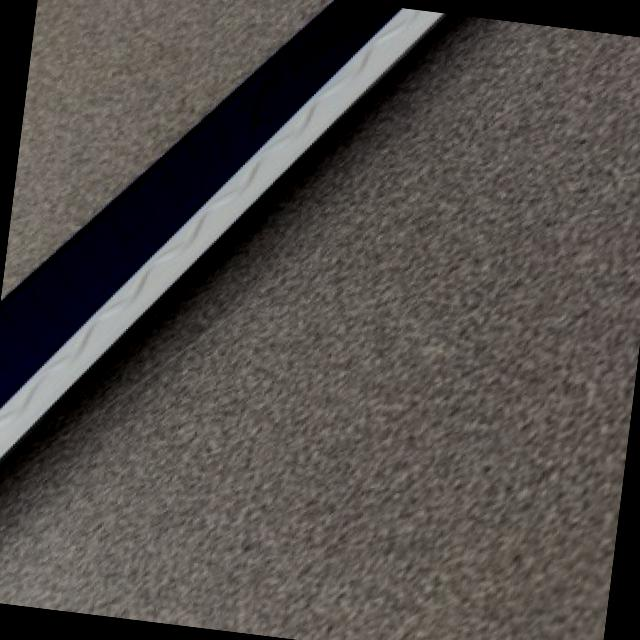healthy: (0, 18, 577, 640), (0, 0, 444, 457)
